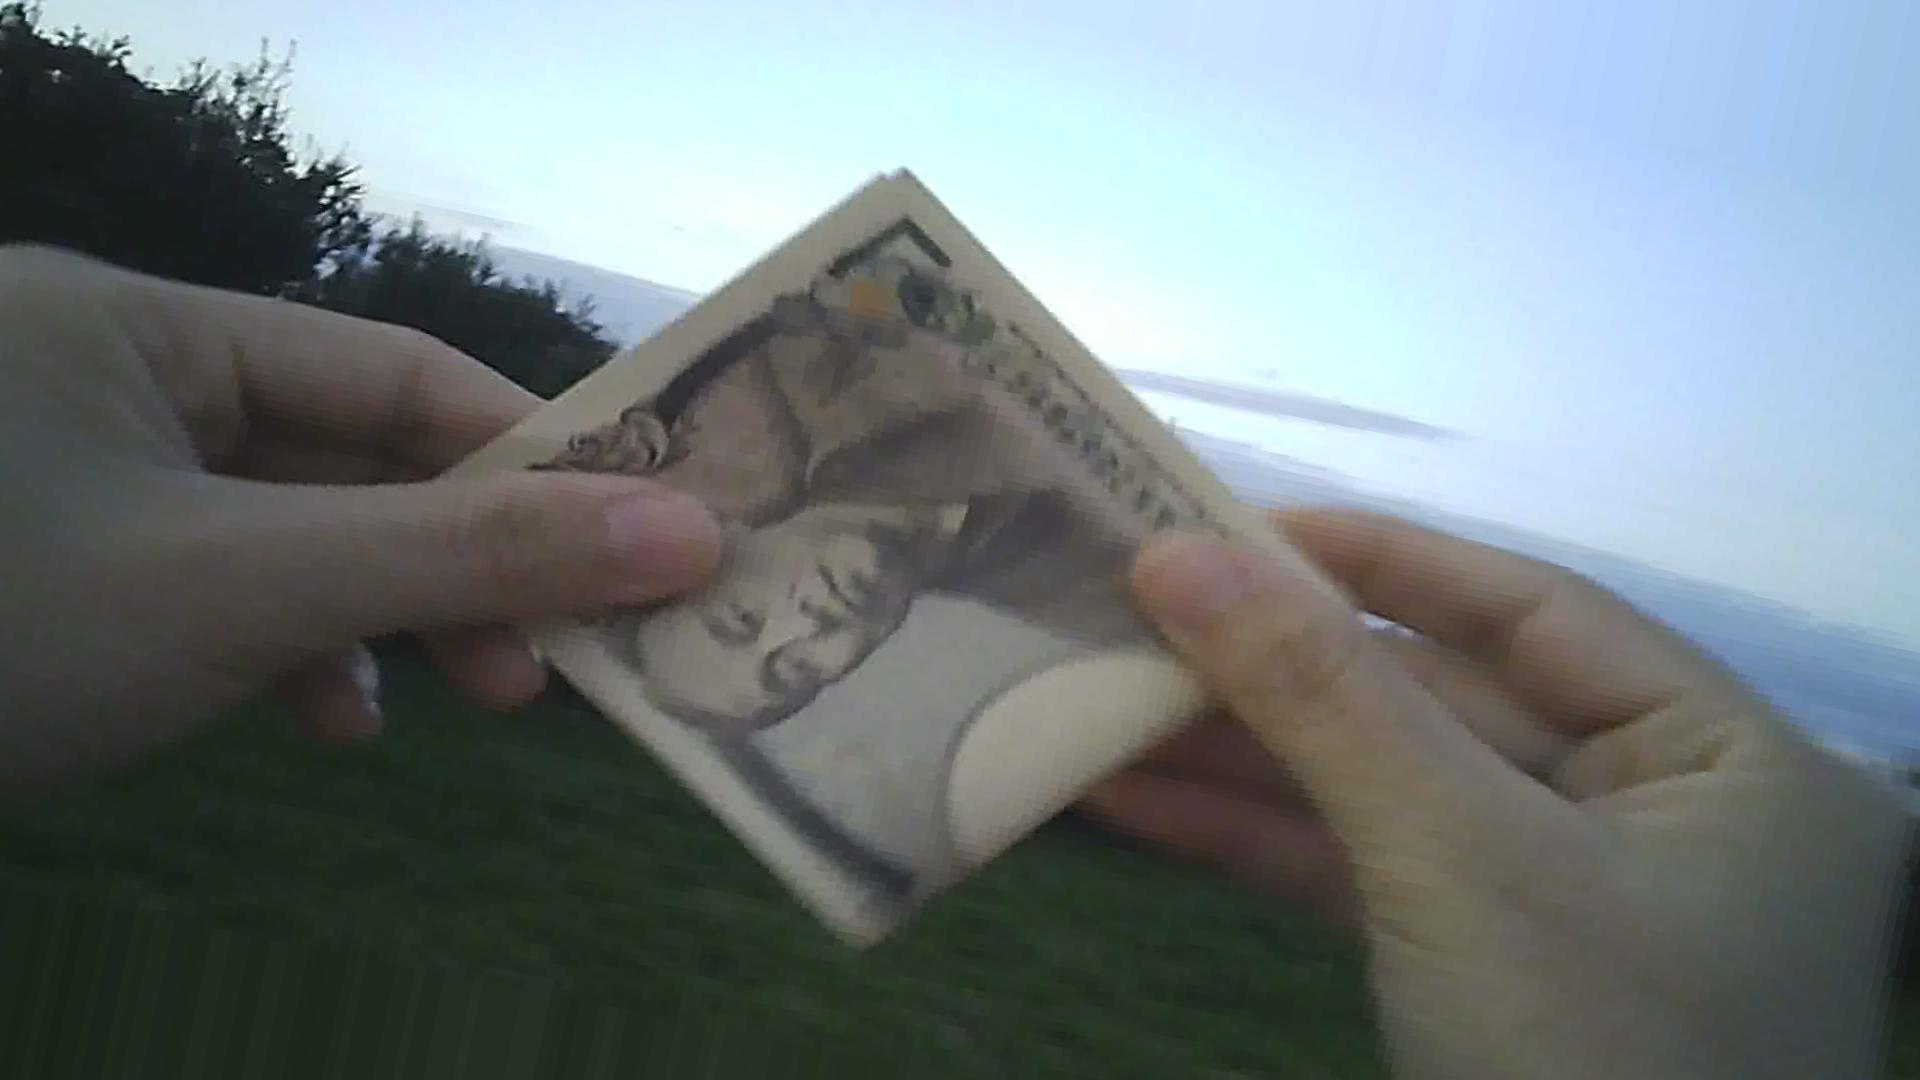10,000 Yen: (415, 175, 1341, 963)
